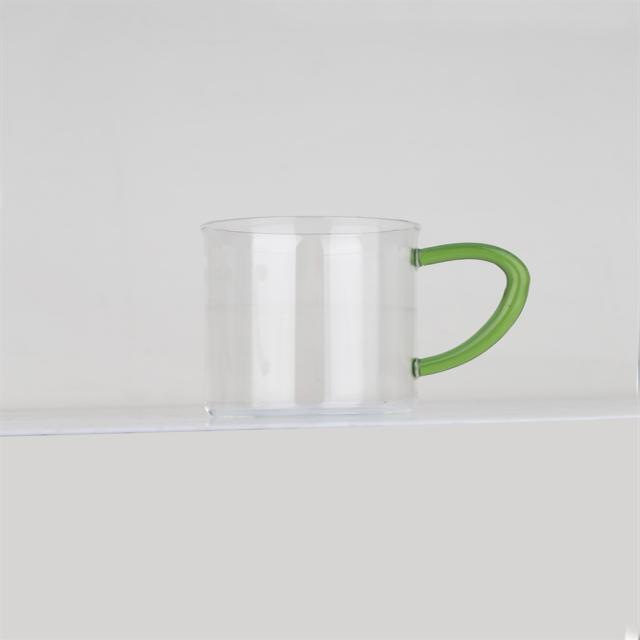Coffee Mug: (196, 216, 534, 422)
